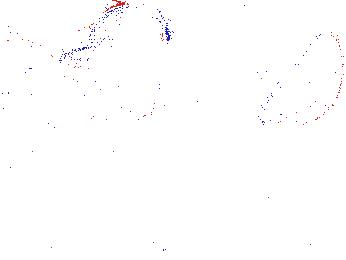moon jellyfish: (260, 31, 342, 130), (57, 45, 155, 118), (86, 4, 167, 73), (1, 39, 62, 95)
